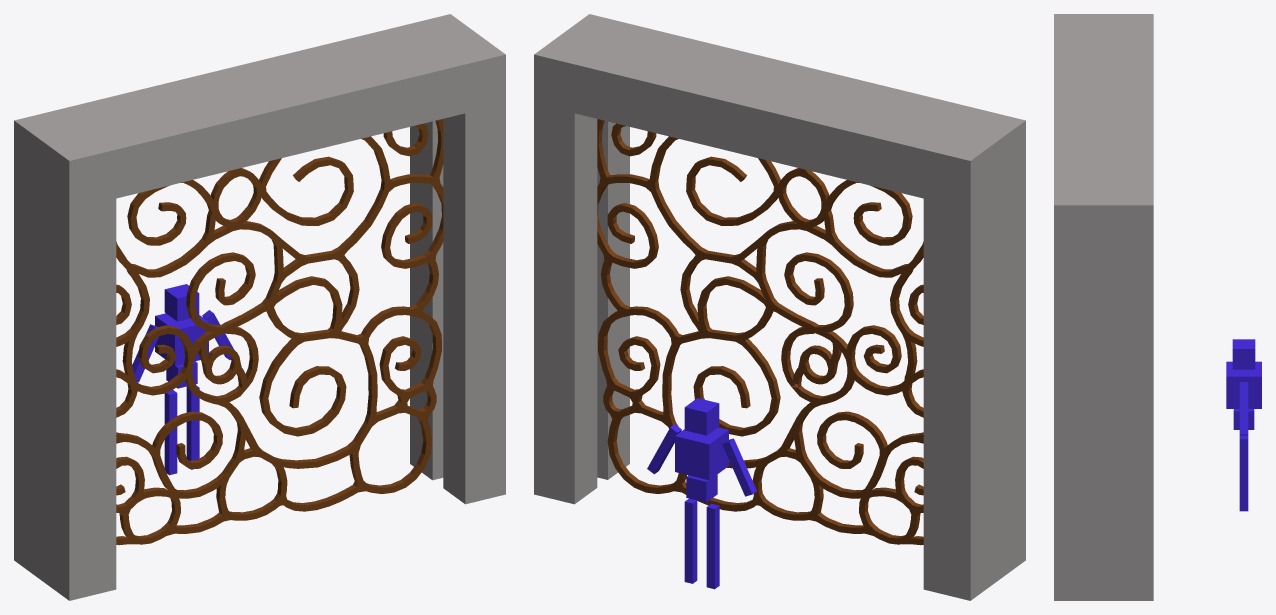
File: ancient_door.fbx
3 views of the same model, side by side, from view 1: azimuth 30°, elevation 25°; view 2: azimuth 150°, elevation 25°; view 3: azimuth 270°, elevation 25° (orthographic). The views are drawn at different scales.
Visible parts, largest first — view 1: Frame, MetalBars, CubeMan; view 2: Frame, MetalBars, CubeMan; view 3: Frame, CubeMan.
Boxes of the visible parts, x1,y1,x2,y2 form: Frame: (14,14,505,600); MetalBars: (116,119,443,545); CubeMan: (132,284,234,475); Frame: (534,14,1025,600); MetalBars: (597,119,923,545); CubeMan: (647,398,756,589); Frame: (1054,14,1153,600); CubeMan: (1226,339,1261,511).
Size of the model in its own units: 455 by 438 by 208.
